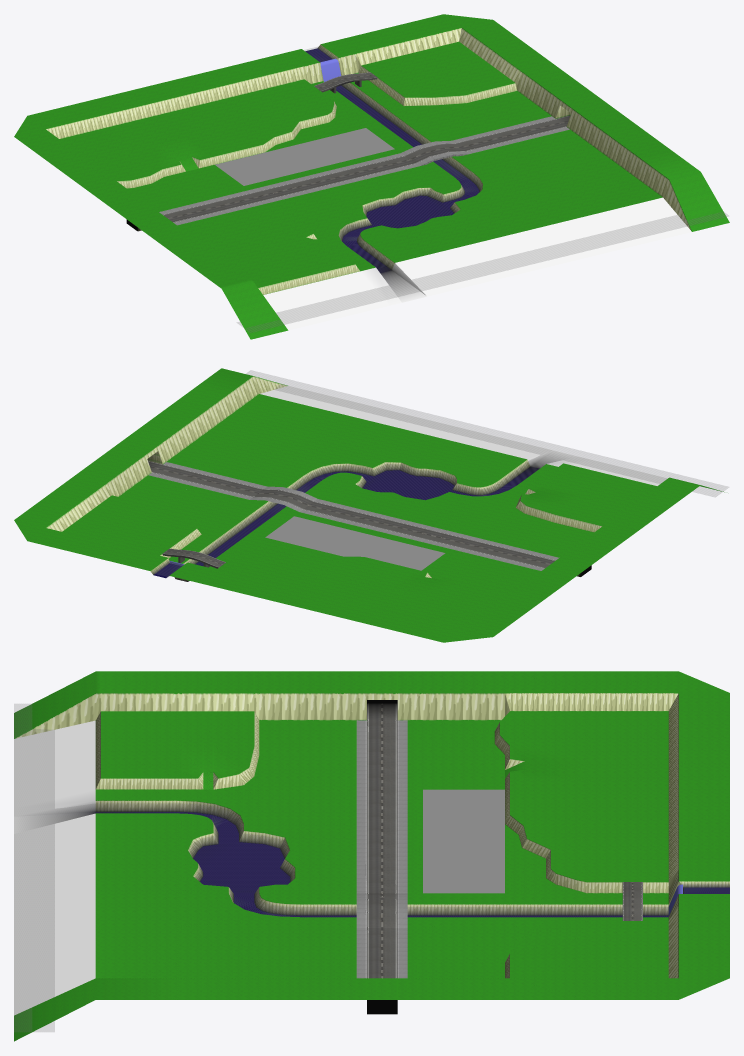
The model's file is island-8x7.glb.
3 views of the same model, one above another, from view 1: azimuth 30°, elevation 25°; view 2: azimuth 150°, elevation 25°; view 3: azimuth 270°, elevation 25° (orthographic). The views are drawn at different scales.
Parts seen in each view (by area): view 1: island-8x7-grass-col, island-8x7-sand-col, island-8x7-cliff-col, island-8x7_water-col, island-8x7-road-col, island-8x7-city-col, island-8x7-sidewalk-col; view 2: island-8x7-grass-col, island-8x7_water-col, island-8x7-sand-col, island-8x7-cliff-col, island-8x7-road-col, island-8x7-city-col, island-8x7-sidewalk-col; view 3: island-8x7-grass-col, island-8x7-cliff-col, island-8x7-sand-col, island-8x7_water-col, island-8x7-road-col, island-8x7-city-col, island-8x7-sidewalk-col.
Boxes of the visible parts, x1,y1,x2,y2 form: island-8x7-grass-col: [14, 14, 729, 339]; island-8x7-sand-col: [263, 48, 691, 330]; island-8x7-cliff-col: [46, 27, 691, 294]; island-8x7_water-col: [237, 46, 728, 332]; island-8x7-road-col: [163, 72, 570, 222]; island-8x7-city-col: [215, 128, 394, 185]; island-8x7-sidewalk-col: [159, 116, 569, 225]; island-8x7-grass-col: [14, 368, 724, 642]; island-8x7_water-col: [153, 370, 728, 576]; island-8x7-sand-col: [154, 386, 667, 578]; island-8x7-cliff-col: [46, 376, 602, 581]; island-8x7-road-col: [148, 461, 555, 568]; island-8x7-city-col: [265, 516, 445, 570]; island-8x7-sidewalk-col: [148, 462, 559, 570]; island-8x7-grass-col: [14, 671, 729, 1041]; island-8x7-cliff-col: [14, 693, 729, 978]; island-8x7-sand-col: [14, 720, 729, 1015]; island-8x7_water-col: [14, 704, 729, 1031]; island-8x7-road-col: [367, 703, 642, 978]; island-8x7-city-col: [423, 789, 504, 893]; island-8x7-sidewalk-col: [356, 720, 407, 978].
Size of what is drawn, in the model's own units: 152 by 9 by 140.
11 materials, 7 textured.
